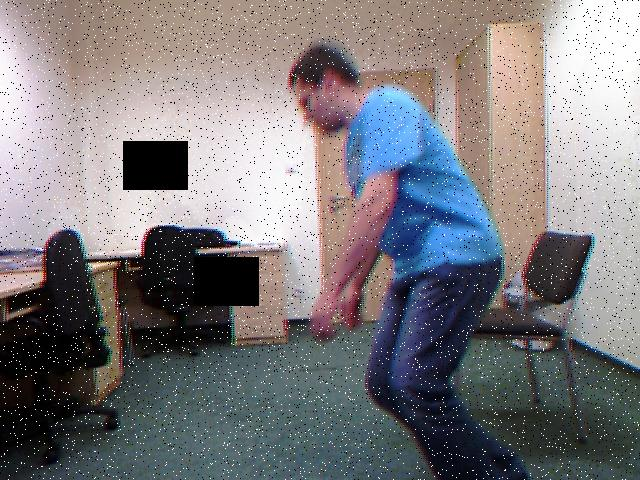near-fall: (273, 23, 533, 480)
